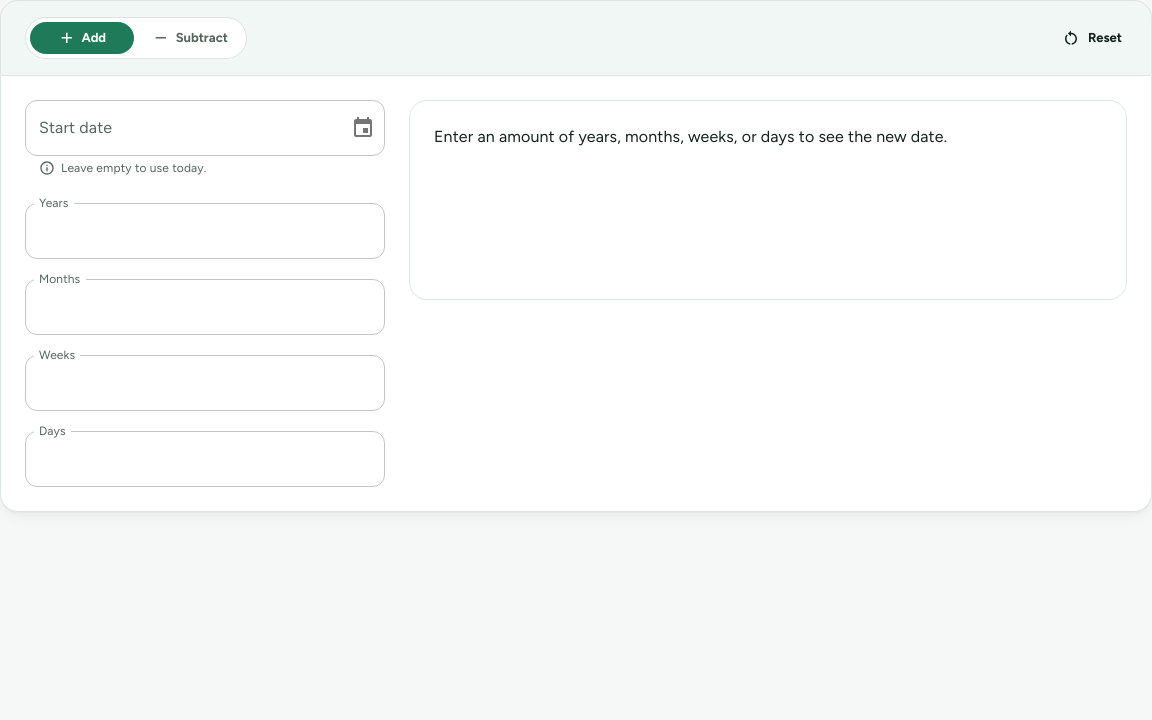
Scenario: DateMathTool › waits for an amount, and rejects a negative one
Expected: the text "Enter an amount of years, months, weeks, or days to see the new date." is shown, [434,127,947,146]
Type "-3" into the number field labelled "Days" at (205, 459), box [25,431,385,487]
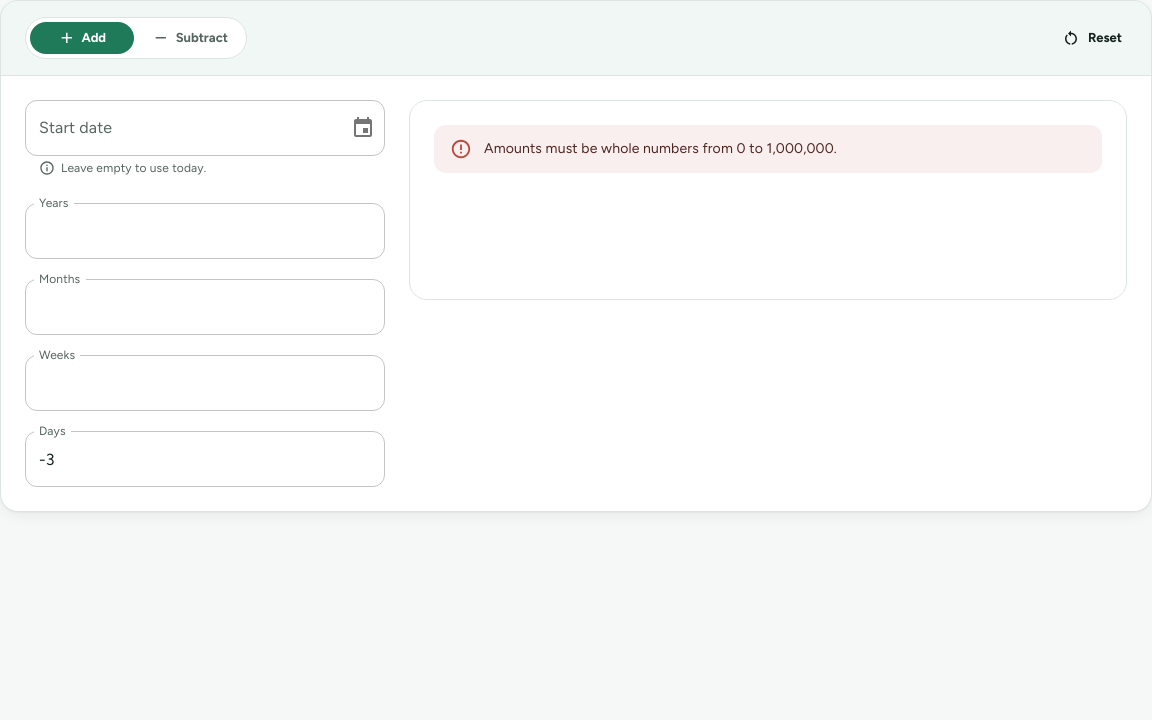
Result: the text "Amounts must be whole numbers from 0 to 1,000,000." is shown at [484,140,837,157]
